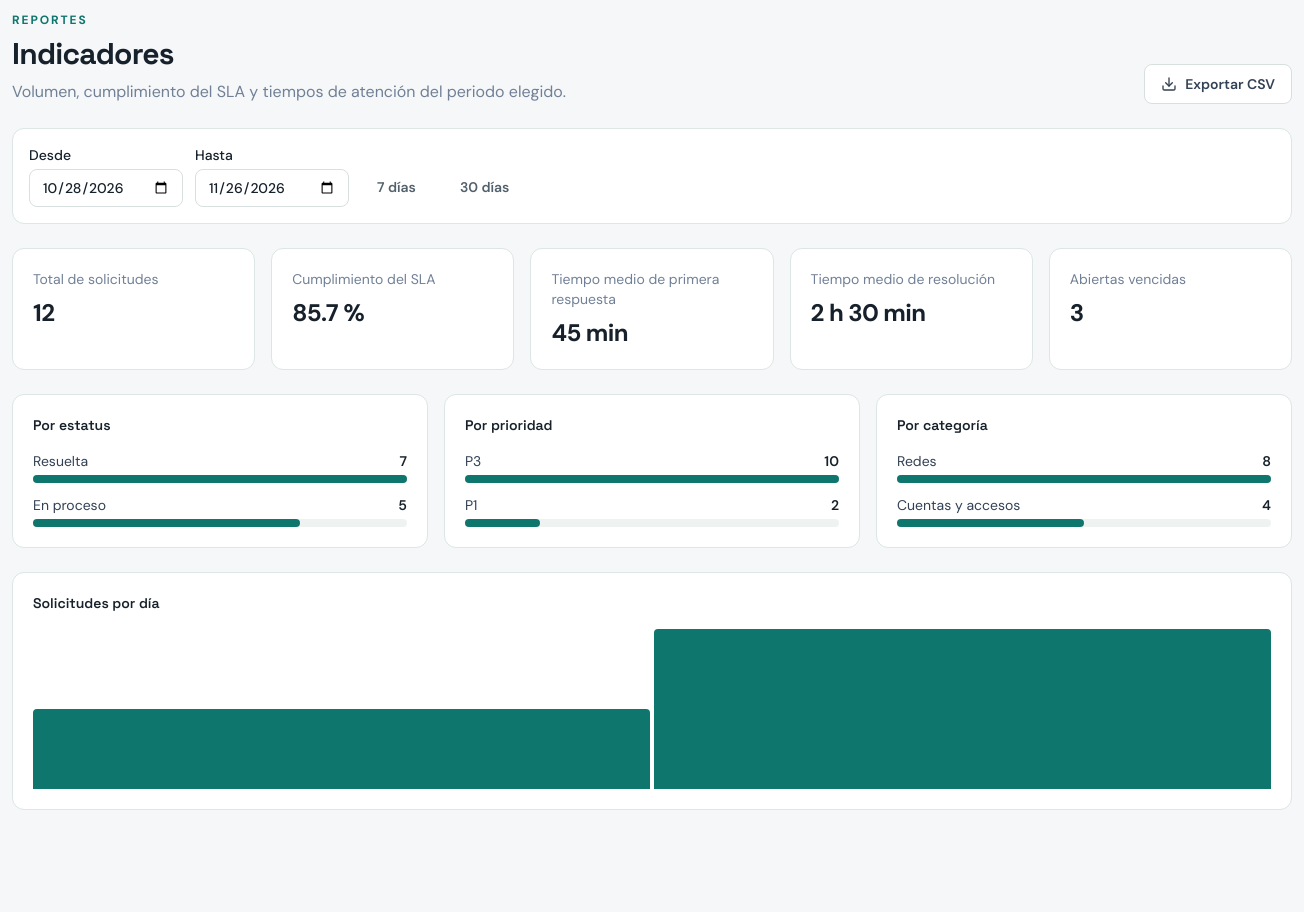
Test: IndicadoresPage (S5-11) › avisa de un rango inválido y no consulta
The width and height of the screenshot is (1304, 912).
Expected: the element named "Tarjetas de indicadores" is shown, [12,248,1292,370]
In the date field labelled "Desde": [106, 188] box [29,169,183,207], type "2026-12-01"
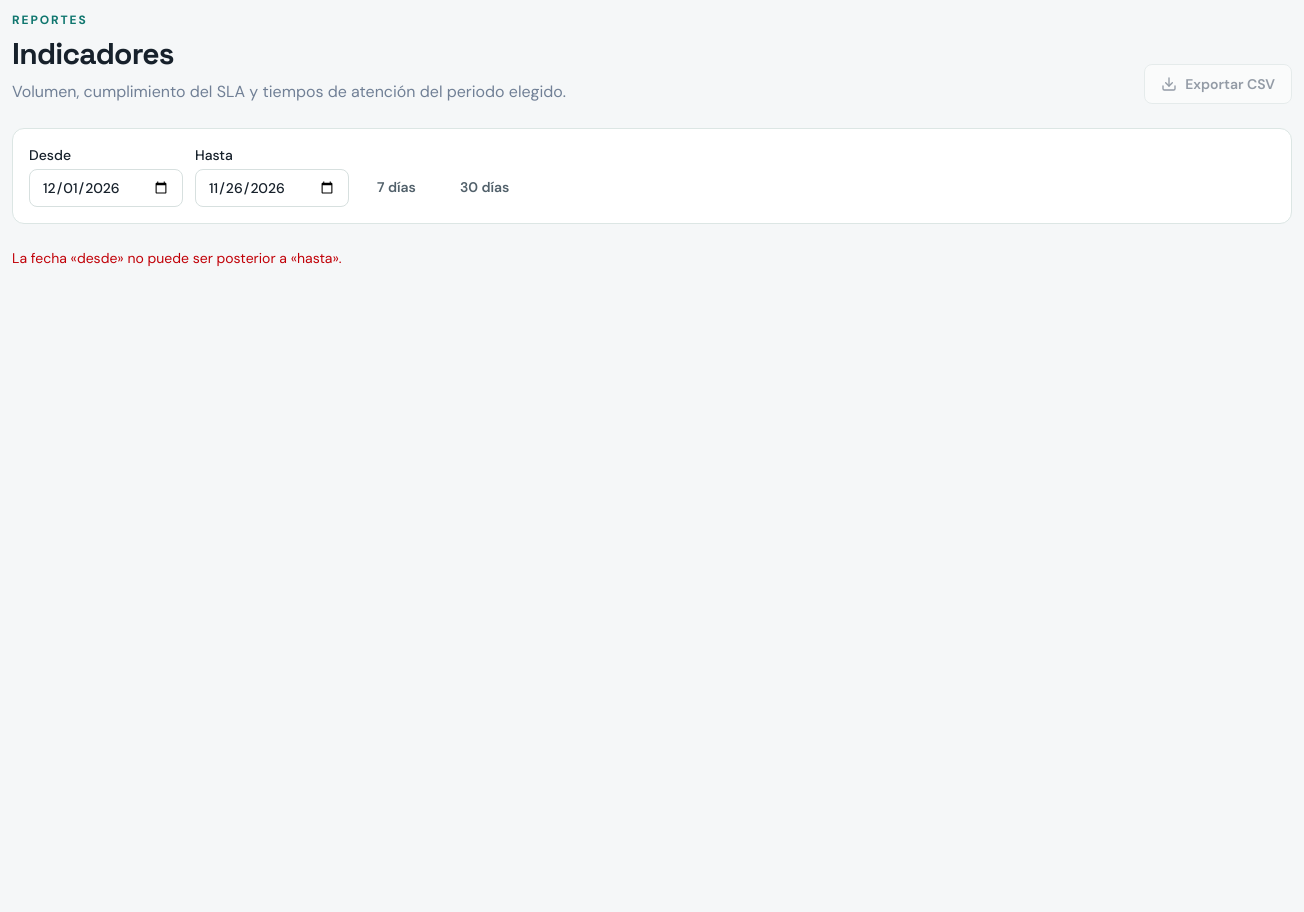
Expected: the message reads "La fecha «desde» no puede ser posterior a «hasta».", [12,249,342,267]
Expected: the button "Exportar CSV" is disabled, [1144,64,1292,104]
